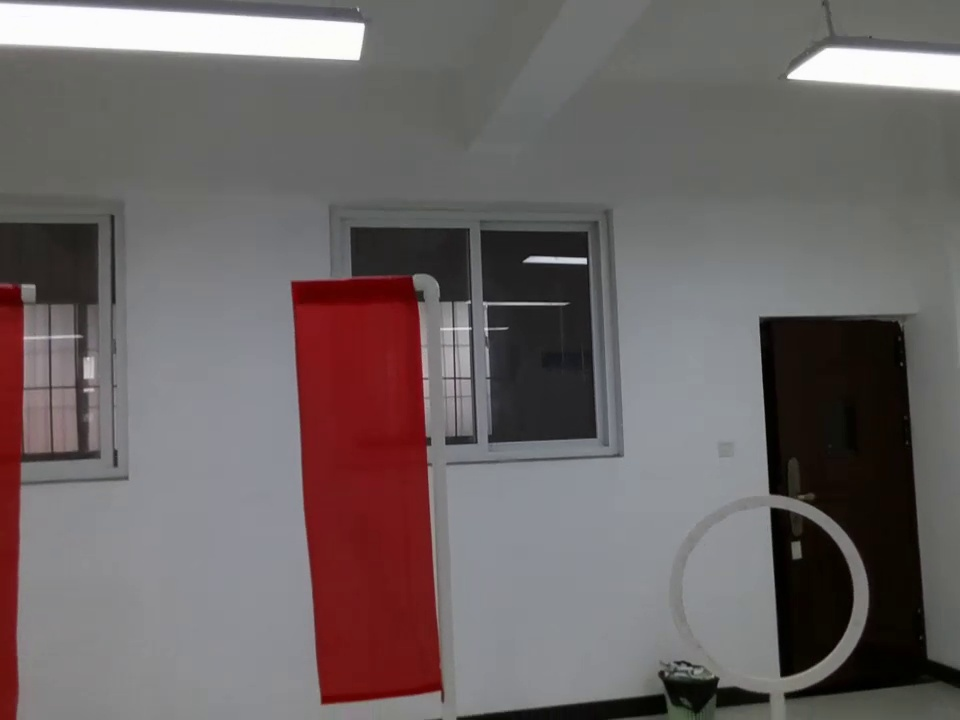qi: (279, 272, 466, 707), (1, 280, 43, 720)
quan: (656, 489, 885, 703)
